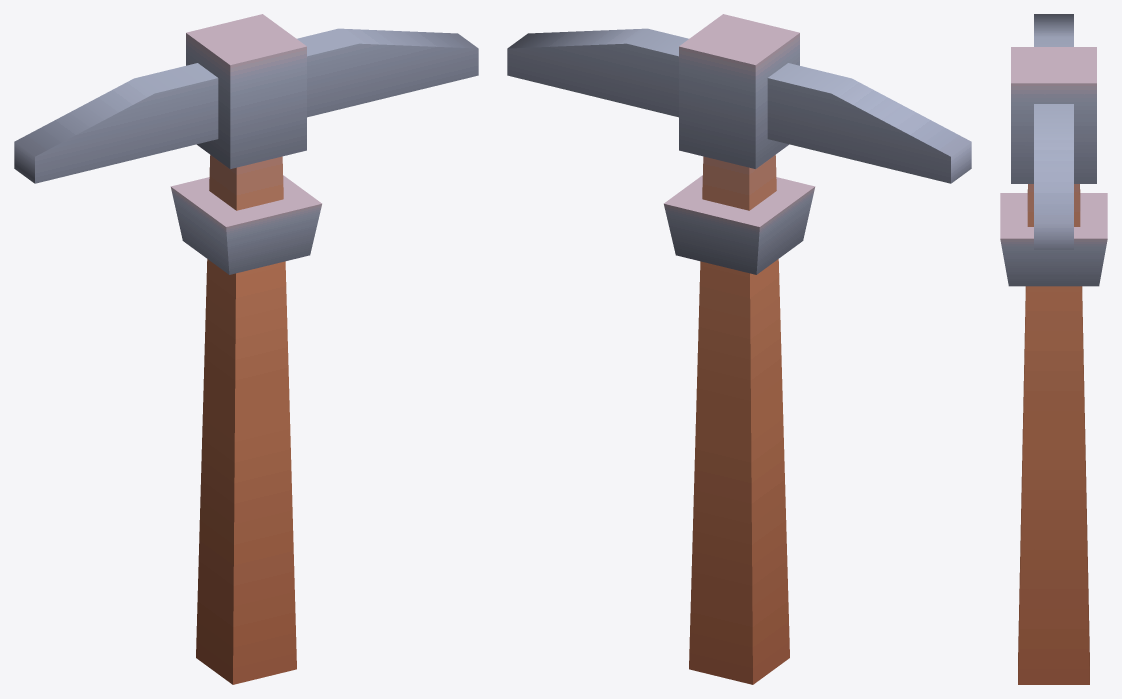
Rendered from tool-pickaxe.glb.
The picture shows the model from 3 angles, left to right: view 1: azimuth 30°, elevation 25°; view 2: azimuth 150°, elevation 25°; view 3: azimuth 270°, elevation 25°; orthographic projection. The views are drawn at different scales.
Visible parts, largest first — view 1: tool-pickaxe; view 2: tool-pickaxe; view 3: tool-pickaxe.
Part boxes in pixels (box(x1,y1,x2,y2)): tool-pickaxe: box(14, 14, 478, 684); tool-pickaxe: box(507, 14, 971, 684); tool-pickaxe: box(1000, 14, 1107, 684).
Size of the model in its own units: 0.1786 by 0.24 by 0.0387.
1 material, 1 textured.
